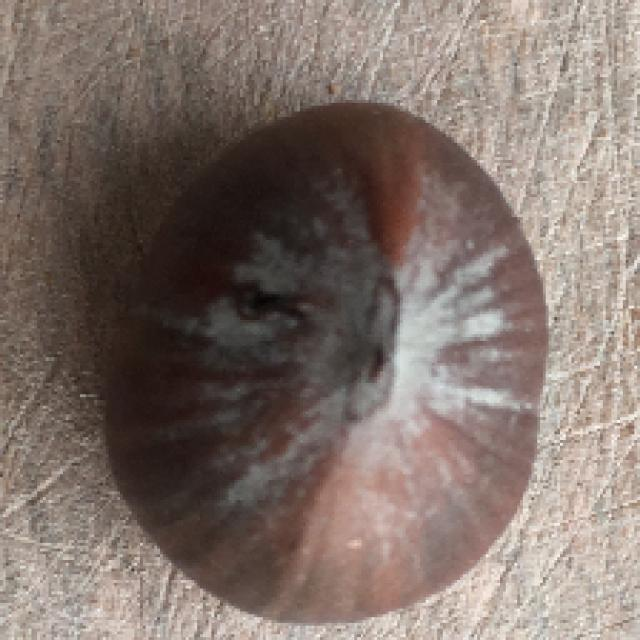qualityHazelnut: (108, 91, 551, 622)
